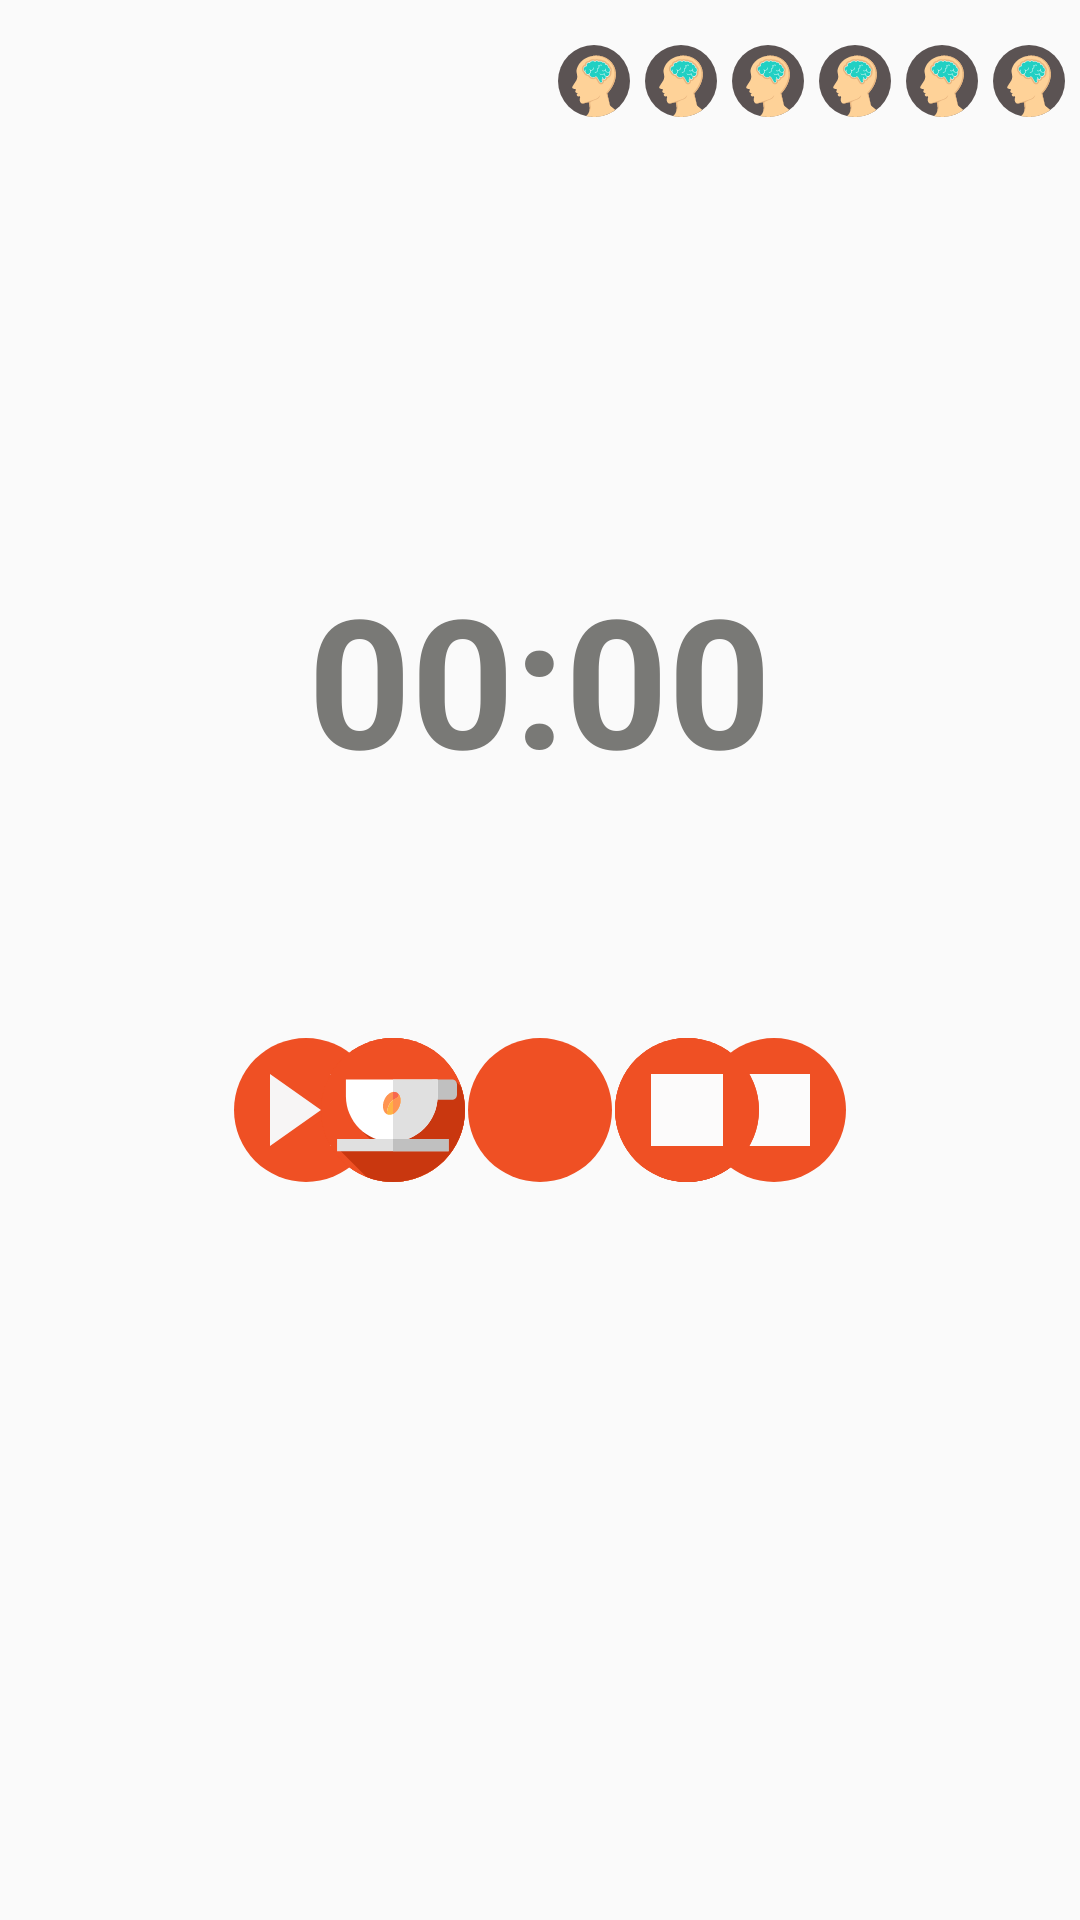

Named icons in this screenshot (1080*1920) and their bounding boxes, {"x1": x1, "y1": y1, "x2": x2, "y2": y2}:
brain: {"x1": 558, "y1": 45, "x2": 630, "y2": 117}, {"x1": 645, "y1": 45, "x2": 717, "y2": 117}, {"x1": 732, "y1": 45, "x2": 804, "y2": 117}, {"x1": 819, "y1": 45, "x2": 891, "y2": 117}, {"x1": 906, "y1": 45, "x2": 978, "y2": 117}, {"x1": 993, "y1": 45, "x2": 1065, "y2": 117}
